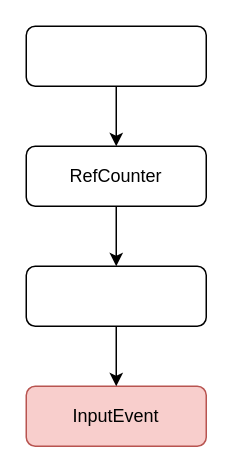
The diagram is 233 pixels wide and 473 high, and some of its shapes have lost their labels. The shapes that lost their labels are listed below. From the top down, each one's centre as x and y in pixels, then its label:
At point 115,55: "Object".
At point 115,295: "Resource".
